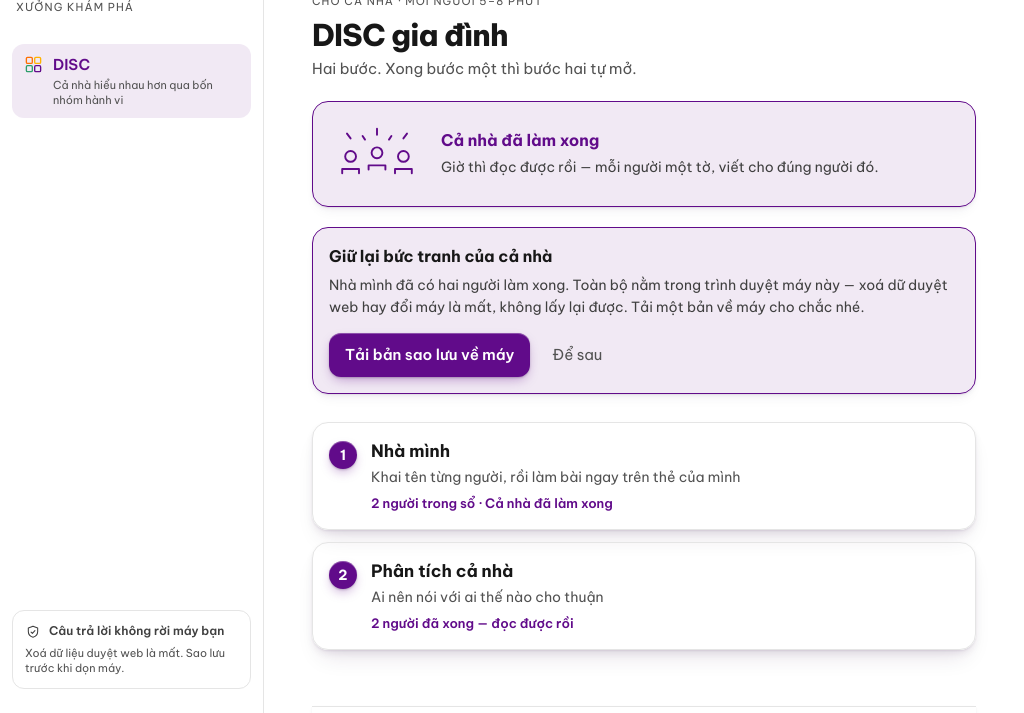
Test case: 🔴 xoá sạch trong lúc đang xem kết quả › G7 — màn kết quả ĐÓNG lại, không để người ta đọc bài vừa bị xoá
This screenshot has width=1024, height=713.
Click the button "Nhà mình" at [644, 476], box x1=313 y1=423 x2=975 y2=529
(page scrolled)
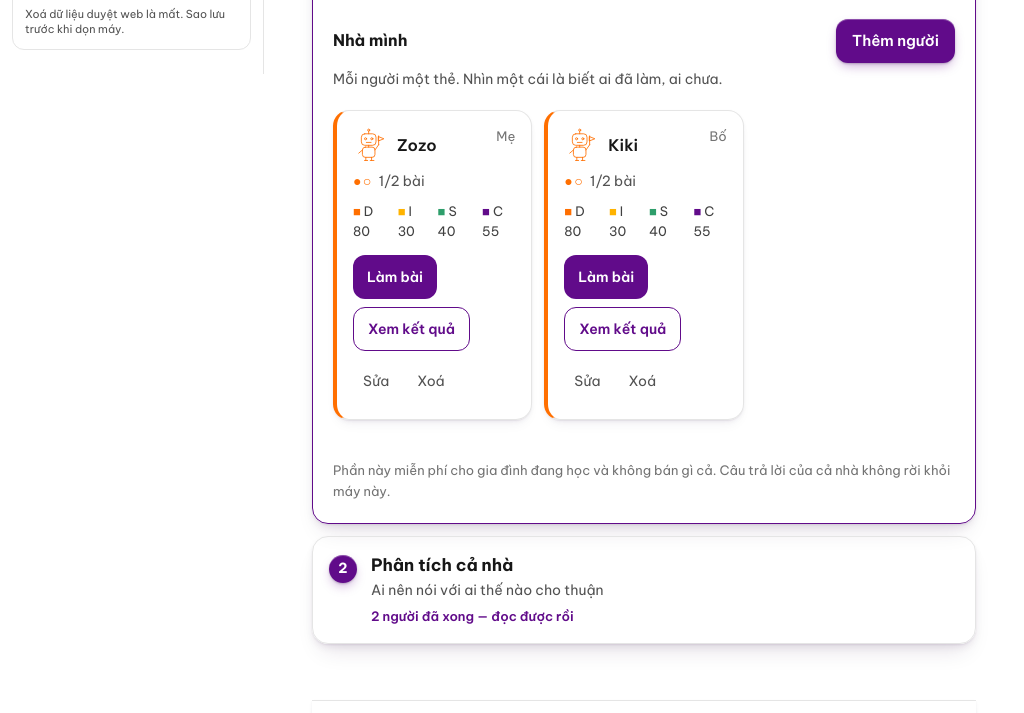
Now the list is shown, box x1=333 y1=110 x2=744 y2=420
Click the button "Xem kết quả" below "Zozo" at [412, 329], box x1=353 y1=307 x2=470 y2=351
(page scrolled)
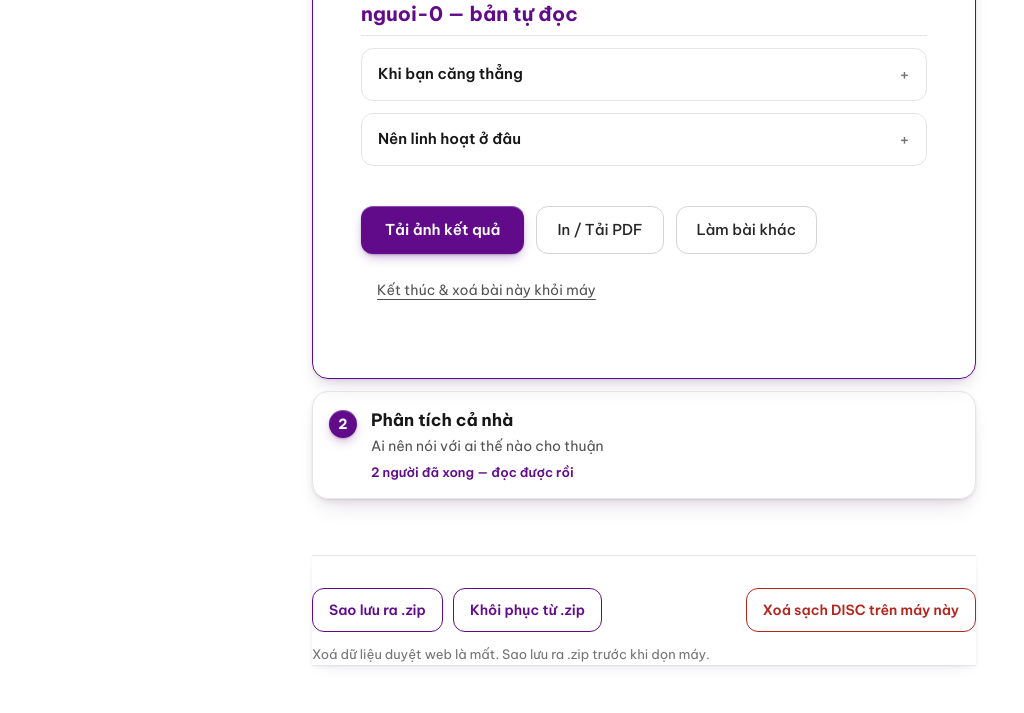
Click the button "Xoá sạch DISC trên máy này" at [861, 610], box x1=746 y1=588 x2=976 y2=632
(page scrolled)
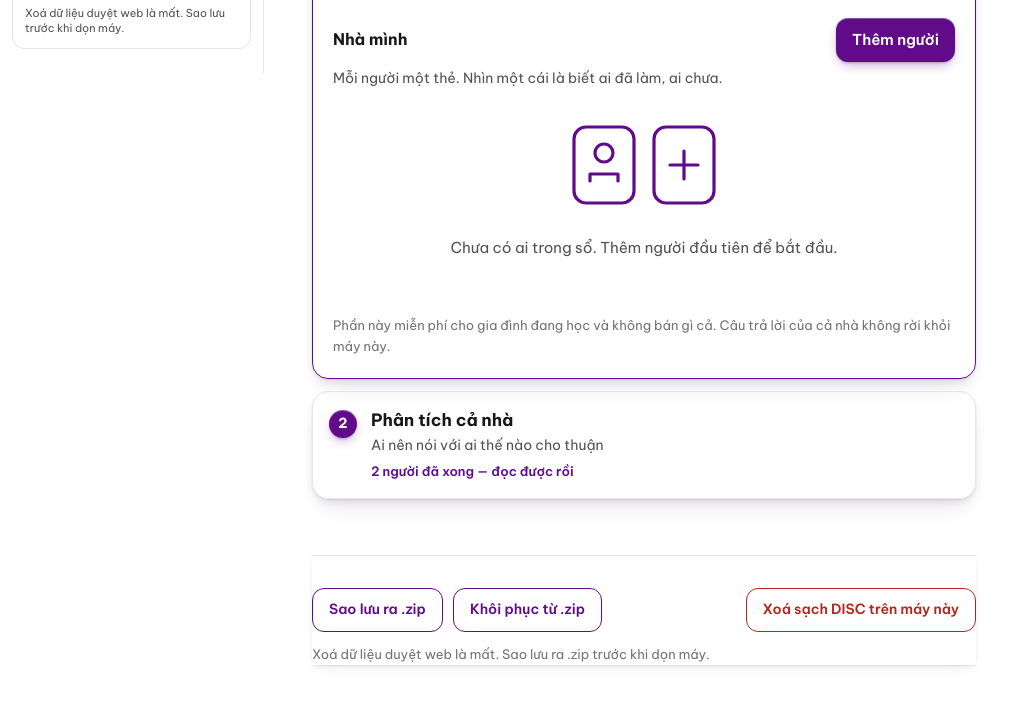
Now the element showing "Chưa có ai trong sổ. Thêm người đầu tiên để bắt đầu." is shown, box x1=450 y1=105 x2=838 y2=257
